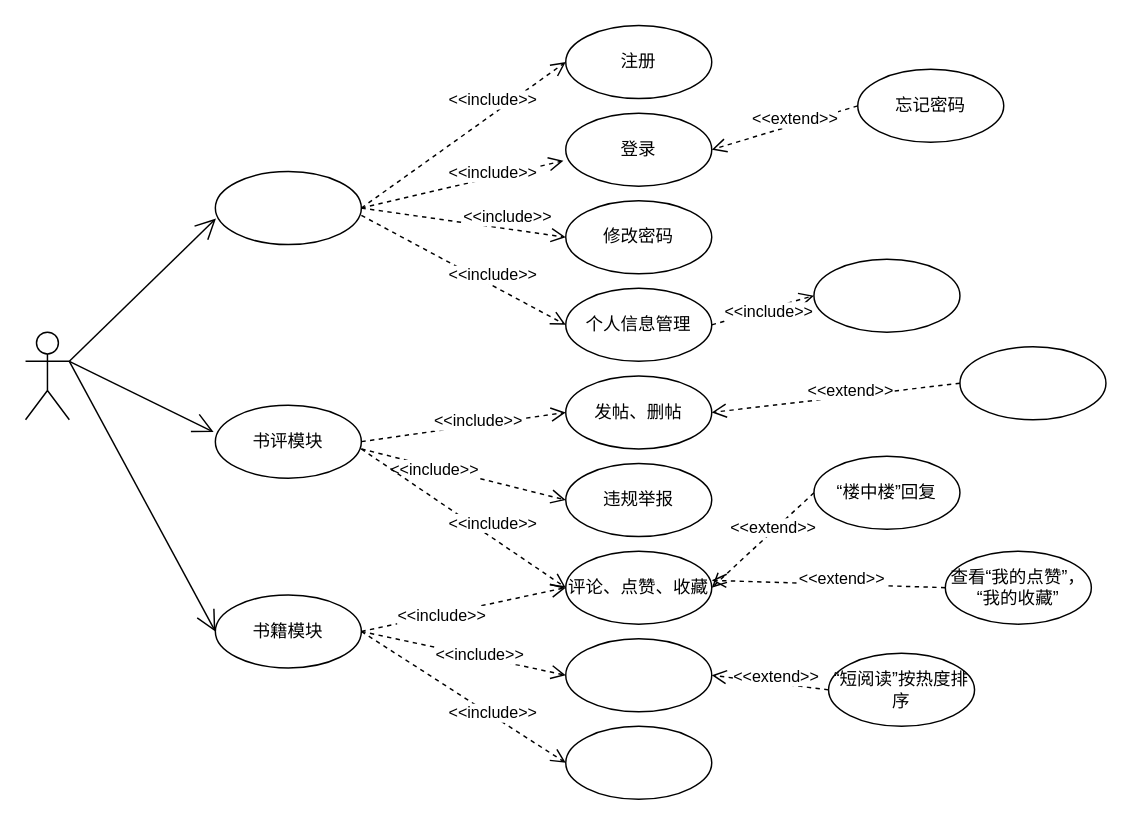
Some shapes in this 1132 by 825 pixel diagram are drawn without their labels. Each missing label, with the centre of its shape:
"User" goes at (x=46, y=375).
"上传“短阅读”" goes at (x=638, y=674).
"书籍评分" goes at (x=638, y=762).
"修改个人信息" goes at (x=886, y=295).
"帖子按热度排序" goes at (x=1032, y=382).
"用户模块" goes at (x=287, y=207).
